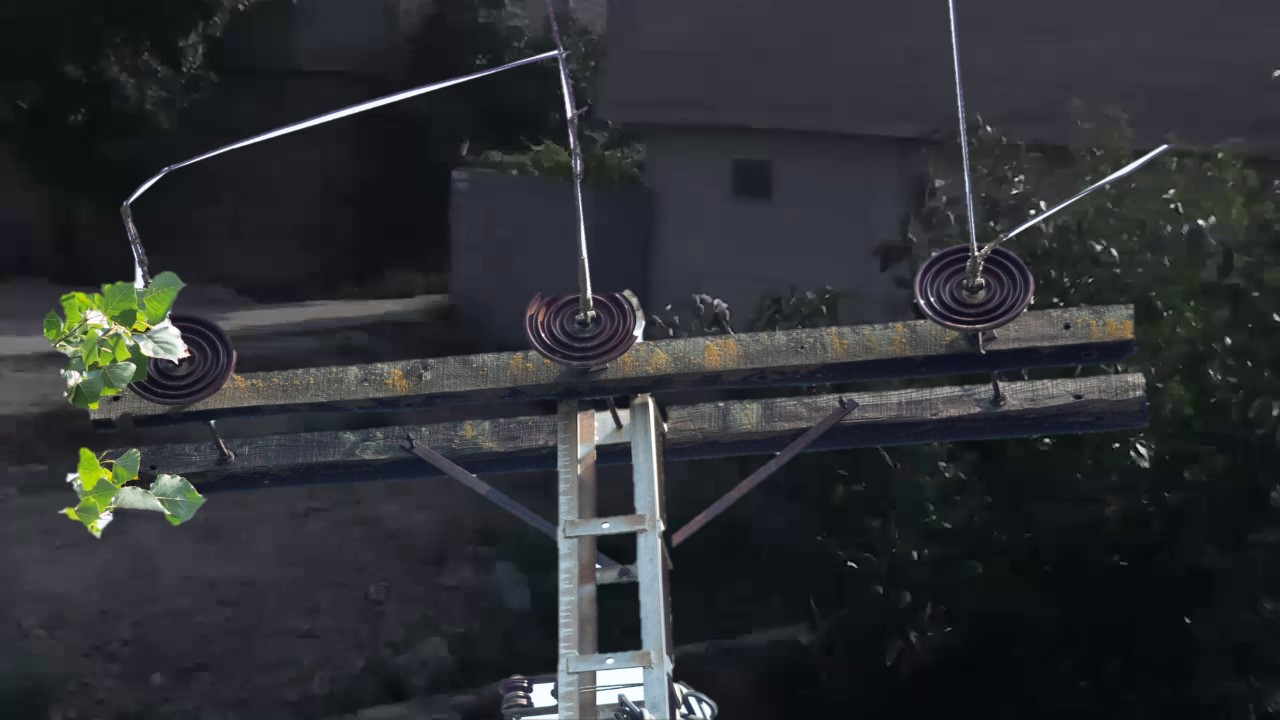defect_disc: (517, 281, 655, 367)
insulator_disc: (913, 241, 1038, 334), (176, 317, 244, 399)
